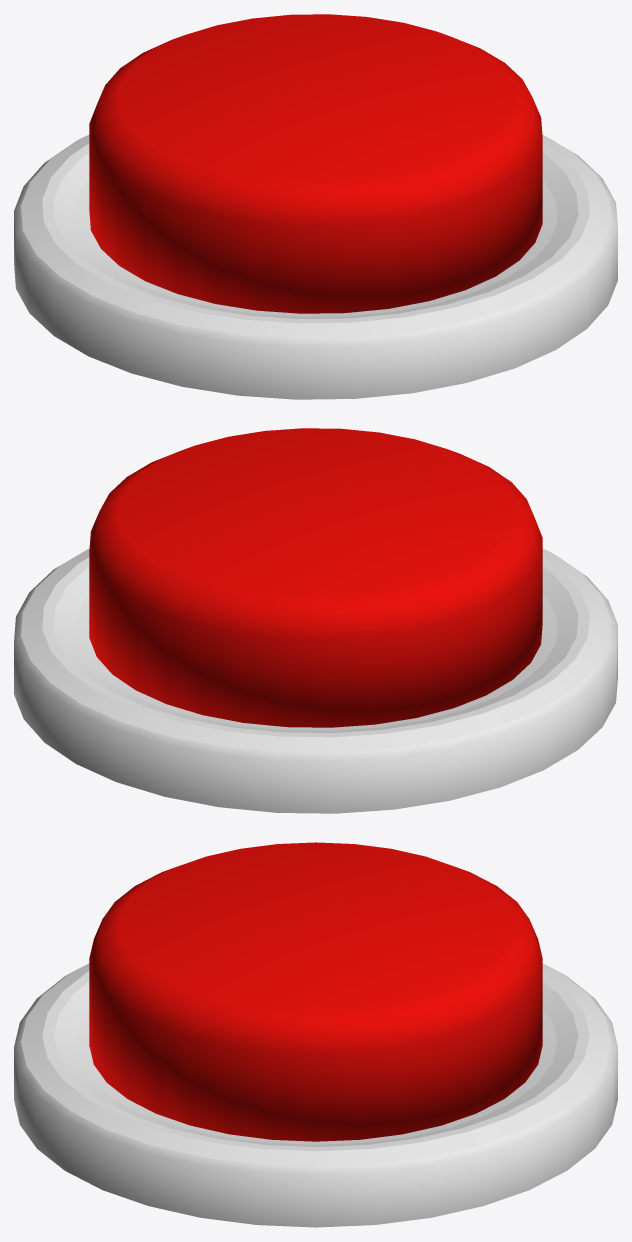
Rendered from Button.fbx.
3 renders of one model, top to bottom at view 1: azimuth 30°, elevation 25°; view 2: azimuth 150°, elevation 25°; view 3: azimuth 270°, elevation 25°, orthographic.
Parts seen in each view (by area): view 1: Cylinder, Cylinder.001; view 2: Cylinder, Cylinder.001; view 3: Cylinder, Cylinder.001.
Part boxes in pixels (box(x1,y1,x2,y2)): Cylinder: box(89, 14, 542, 313); Cylinder.001: box(14, 134, 617, 399); Cylinder: box(89, 428, 542, 727); Cylinder.001: box(14, 548, 617, 813); Cylinder: box(89, 842, 542, 1141); Cylinder.001: box(14, 963, 617, 1227).
Bounding box in the file's own units: 267 × 84.74 × 267.
